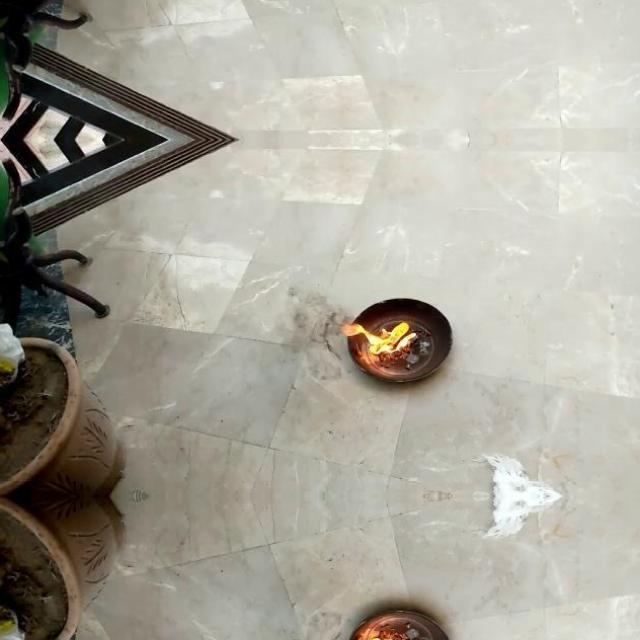smoke: (340, 318, 417, 360)
